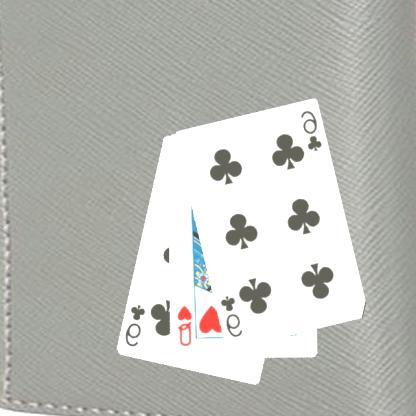6C: (219, 293, 246, 339), (123, 302, 149, 349), (300, 108, 326, 154)
QH: (176, 303, 195, 348)
